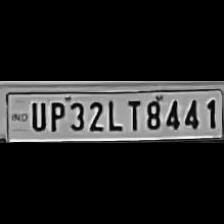1: (202, 96, 218, 128)
2: (86, 98, 104, 132)
3: (65, 97, 84, 130)
4: (180, 97, 200, 129), (162, 96, 180, 130)
8: (142, 97, 162, 131)
L: (105, 97, 123, 131)
P: (46, 98, 64, 132)
T: (123, 97, 141, 131)
U: (27, 98, 46, 132)
